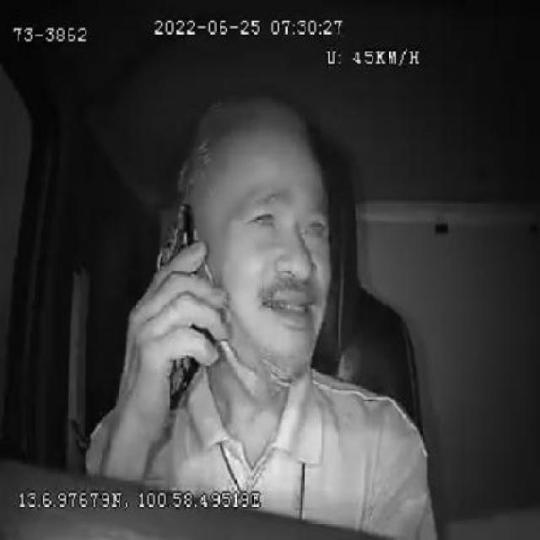phone: (153, 203, 216, 402)
